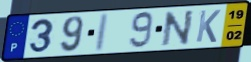3: (27, 17, 56, 55)
9: (58, 15, 87, 54), (127, 10, 155, 50)
I: (93, 12, 111, 53)
K: (194, 9, 223, 44)
N: (161, 8, 196, 47)
